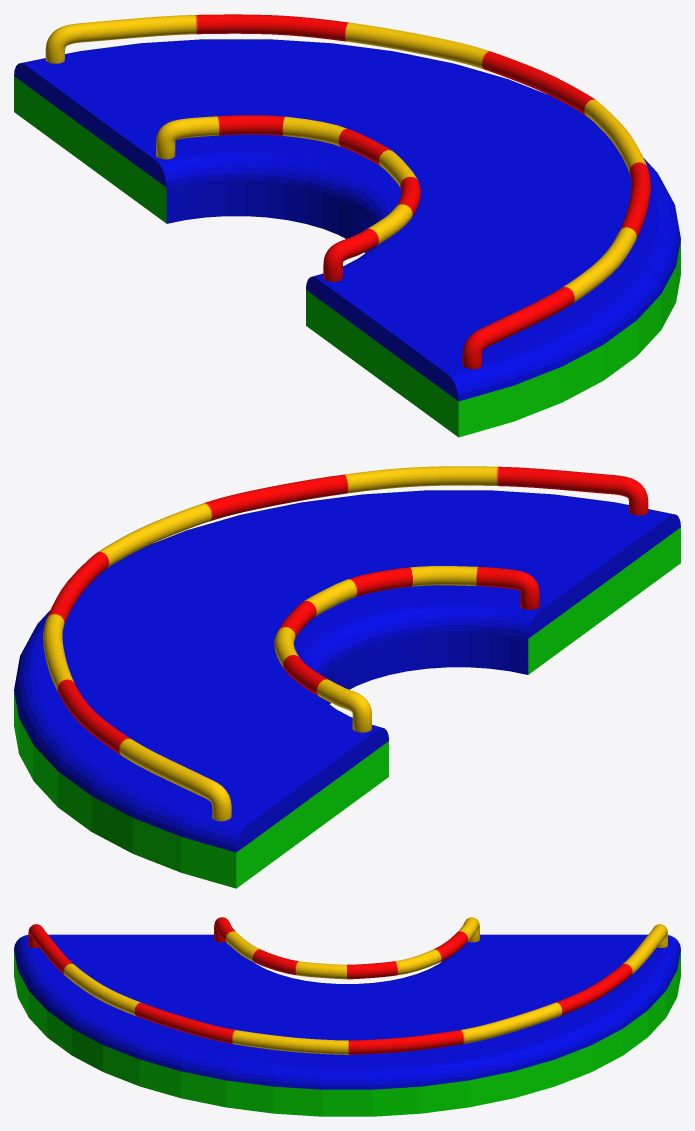
3 renders of one model, top to bottom at view 1: azimuth 30°, elevation 25°; view 2: azimuth 150°, elevation 25°; view 3: azimuth 270°, elevation 25°, orthographic. The views are drawn at different scales.
Parts seen in each view (by area): view 1: plank1, pipe1, pipe2; view 2: plank1, pipe1, pipe2; view 3: plank1, pipe1, pipe2.
Part boxes in pixels (x1,y1,x2,y2): plank1: (14,39,680,437); pipe1: (45,14,650,369); pipe2: (156,115,420,281); plank1: (14,490,680,888); pipe1: (43,466,648,821); pipe2: (274,566,539,732); plank1: (14,934,680,1116); pipe1: (28,924,667,1054); pipe2: (214,917,479,979).
Bounding box in the file's own units: 725 × 159 × 1455.
